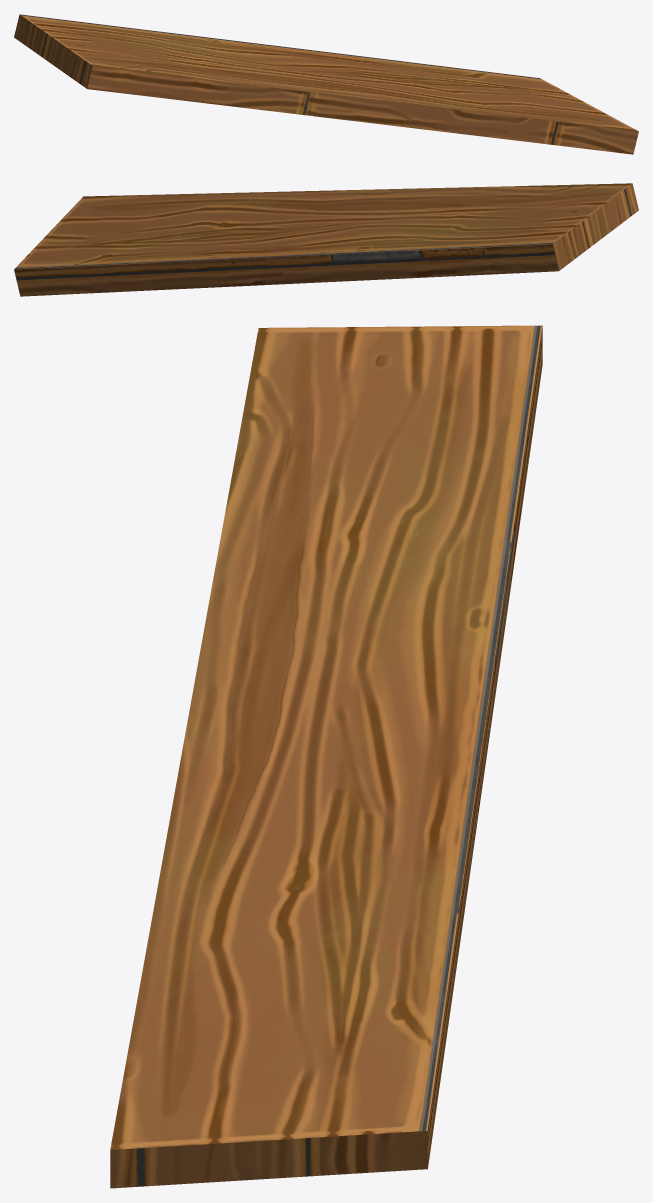
3 renders of one model, top to bottom at view 1: azimuth 30°, elevation 25°; view 2: azimuth 150°, elevation 25°; view 3: azimuth 270°, elevation 25°, orthographic. The views are drawn at different scales.
Parts seen in each view (by area): view 1: Cube.1152; view 2: Cube.1152; view 3: Cube.1152.
Part boxes in pixels (<box>): Cube.1152: <box>14,14,638,154</box>; Cube.1152: <box>14,183,638,296</box>; Cube.1152: <box>110,325,542,1188</box>.
Size of the model in its own units: 238 by 81.21 by 86.19.
Materials: 1 (1 with a texture image).
